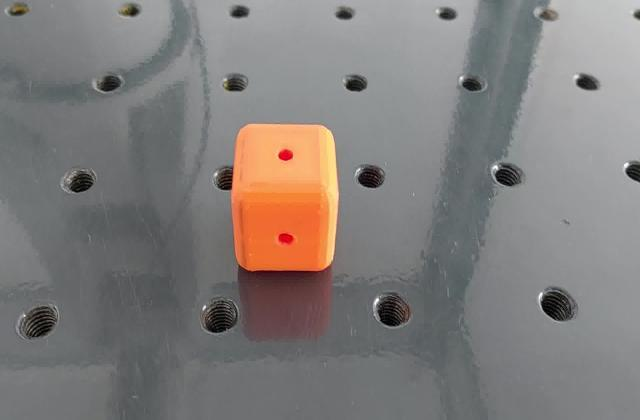cube: (228, 120, 340, 274)
